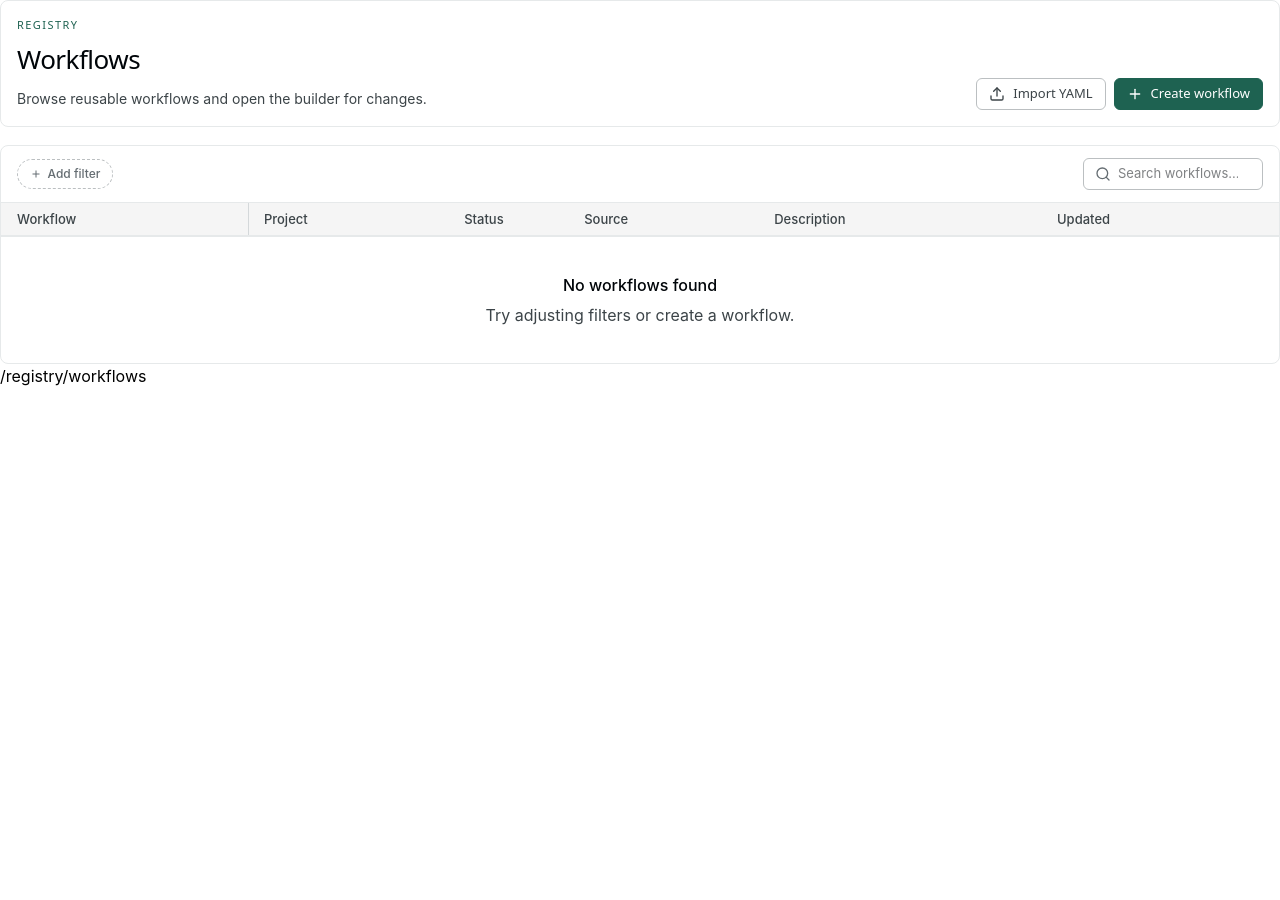
Test: without a configured catalog there is no Catalog tab
Click the button "Create workflow".
click(1188, 94)  # box [1114,78,1263,110]
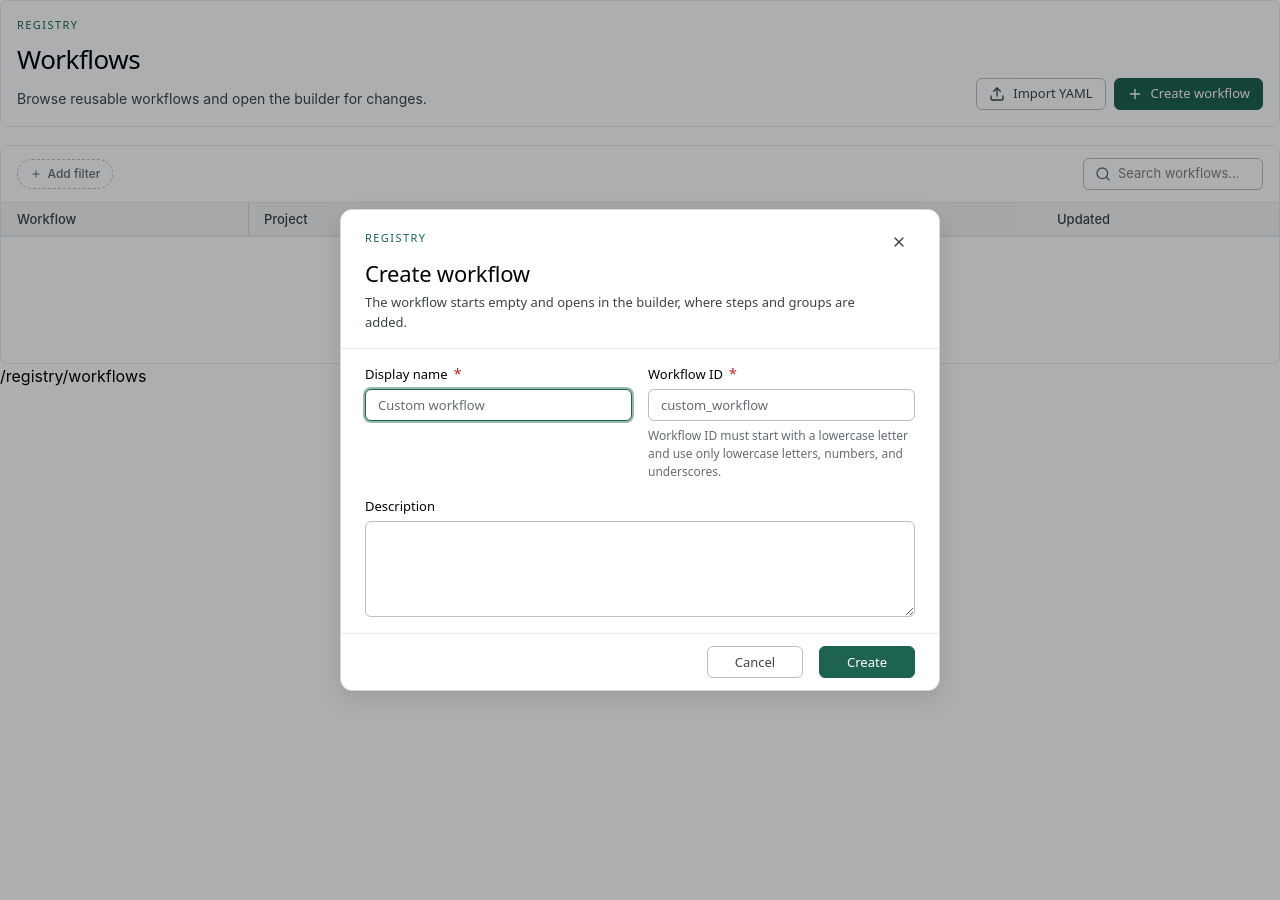
Result: the field labelled "Workflow ID *" is shown at [648,389,915,421]
